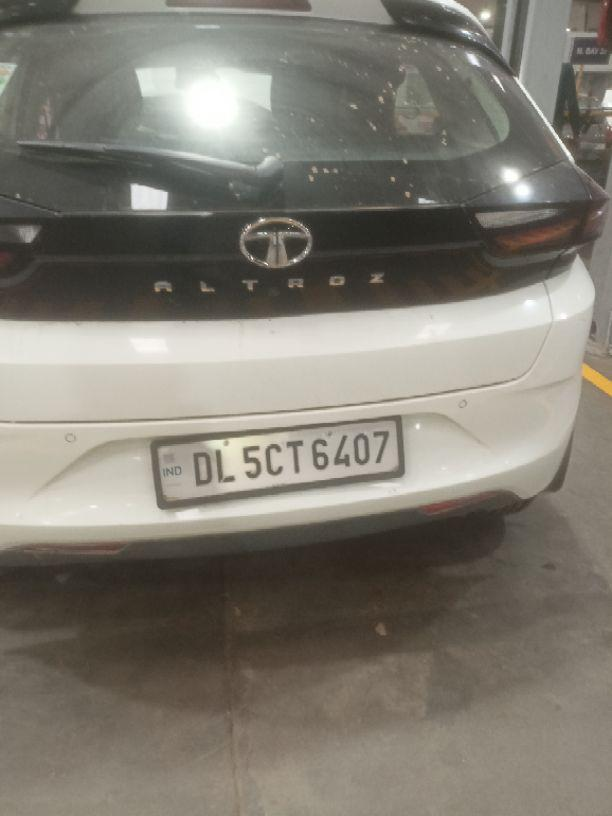license_plate: (149, 414, 406, 509)
